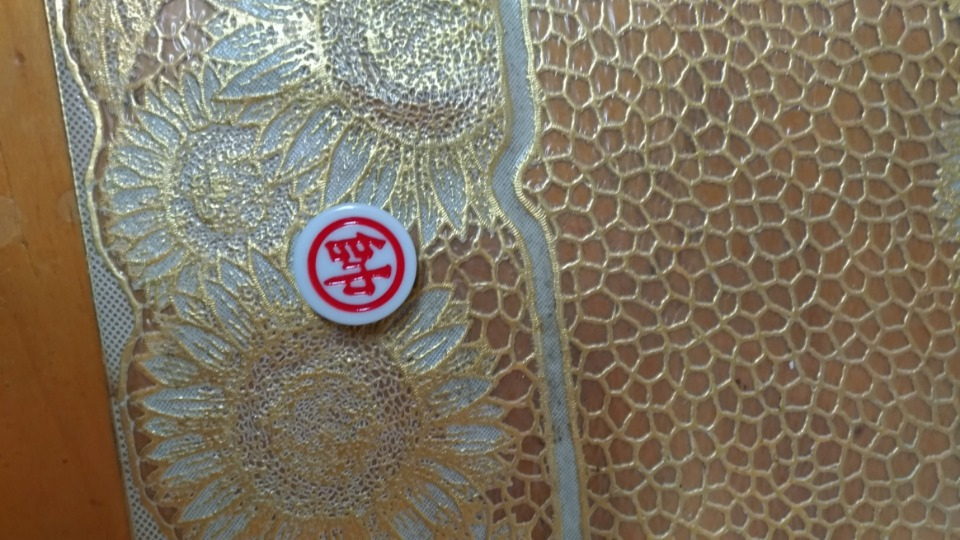r-king: (287, 199, 425, 338)
